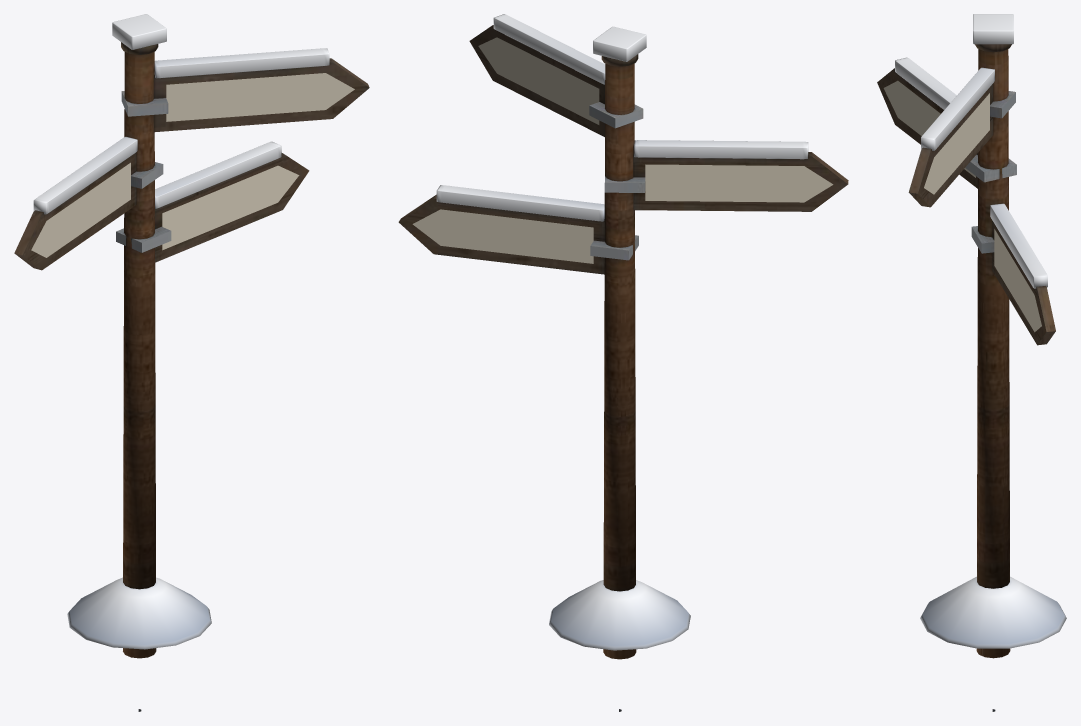
The model's file is sign_junction.glb.
3 views of the same model, side by side, from view 1: azimuth 30°, elevation 25°; view 2: azimuth 150°, elevation 25°; view 3: azimuth 270°, elevation 25° (orthographic). The views are drawn at different scales.
Parts seen in each view (by area): view 1: sign_junction, sign_junction_snow, sign_junction_paint; view 2: sign_junction, sign_junction_snow, sign_junction_paint; view 3: sign_junction, sign_junction_snow, sign_junction_paint.
Boxes of the visible parts, x1=… form: sign_junction: x1=14, y1=42, x2=369, y2=711; sign_junction_snow: x1=33, y1=14, x2=329, y2=649; sign_junction_paint: x1=31, y1=73, x2=354, y2=257; sign_junction: x1=398, y1=25, x2=848, y2=711; sign_junction_snow: x1=436, y1=14, x2=808, y2=650; sign_junction_paint: x1=412, y1=37, x2=833, y2=263; sign_junction: x1=877, y1=44, x2=1055, y2=711; sign_junction_snow: x1=895, y1=14, x2=1066, y2=648; sign_junction_paint: x1=883, y1=80, x2=1041, y2=332.
Size of the model in its own units: 2.33 by 4.07 by 1.02.
3 materials, 1 textured.
